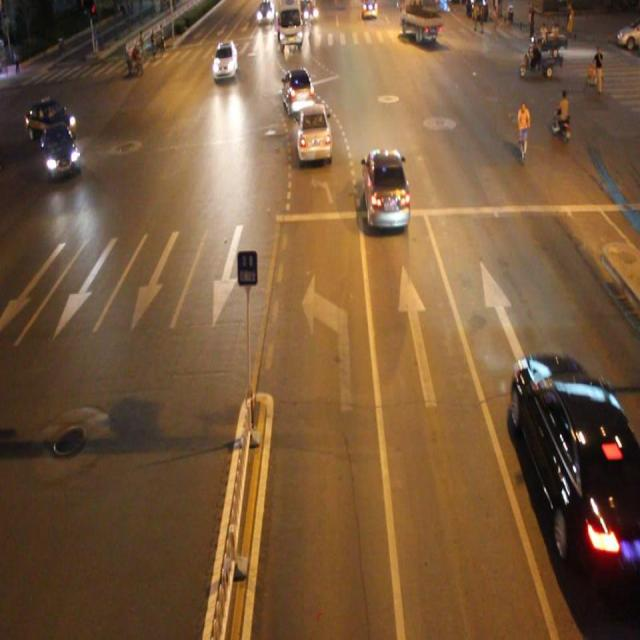car: (510, 352, 640, 583), (362, 146, 410, 230), (296, 100, 335, 163), (43, 122, 79, 177), (281, 63, 317, 116)
